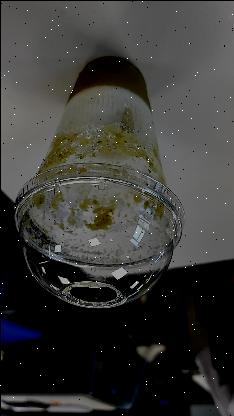Others: (11, 51, 188, 310), (7, 162, 188, 308)
